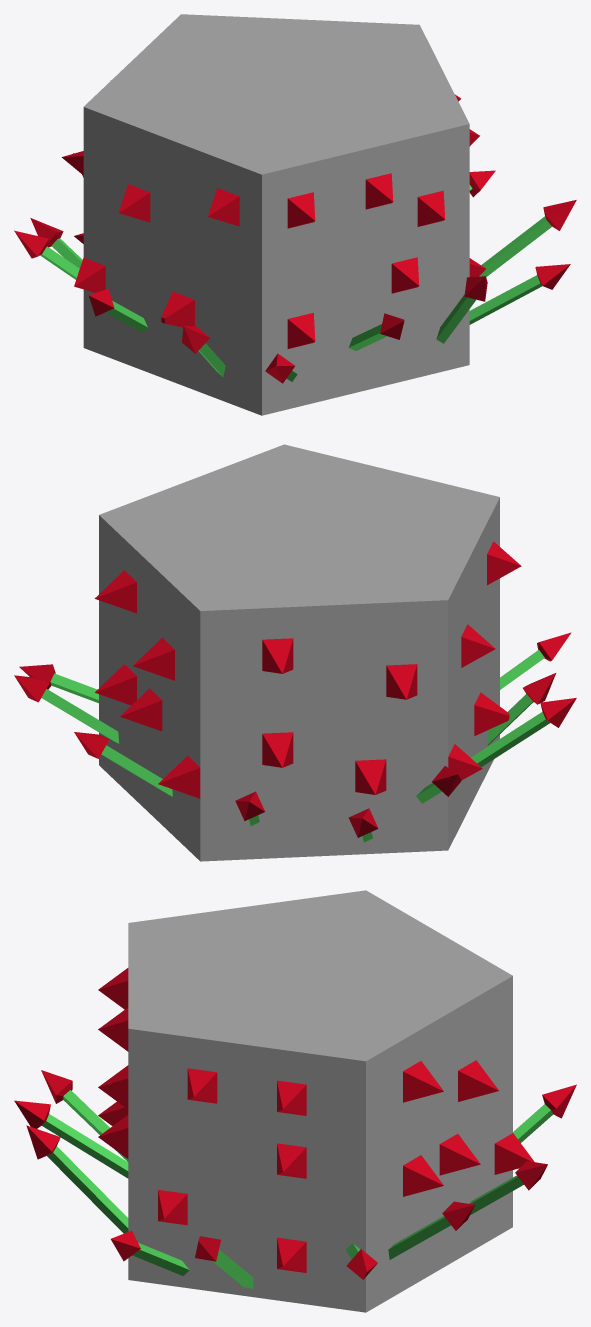
File: towerblockdmg2.fbx
3 views of the same model, one above another, from view 1: azimuth 30°, elevation 25°; view 2: azimuth 150°, elevation 25°; view 3: azimuth 270°, elevation 25° (orthographic). The views are drawn at different scales.
Parts seen in each view (by area): view 1: Cylinder; view 2: Cylinder; view 3: Cylinder.
Part boxes in pixels (bbox=[...]): Cylinder: bbox=[14, 14, 576, 415]; Cylinder: bbox=[14, 444, 576, 861]; Cylinder: bbox=[14, 890, 576, 1312].
Bounding box in the file's own units: 233 × 126 × 231.
